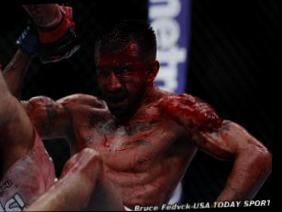Fire: (72, 42, 243, 160), (24, 96, 73, 132)
